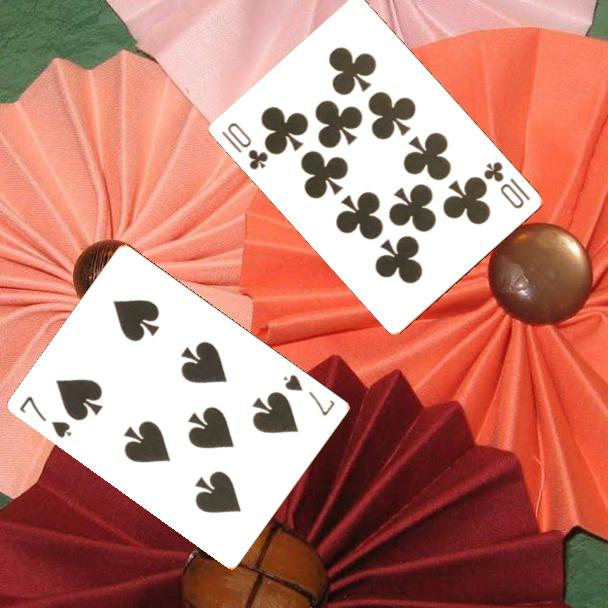c10: (480, 158, 534, 212), (218, 119, 272, 173)
s07: (16, 392, 75, 441), (280, 371, 338, 419)
